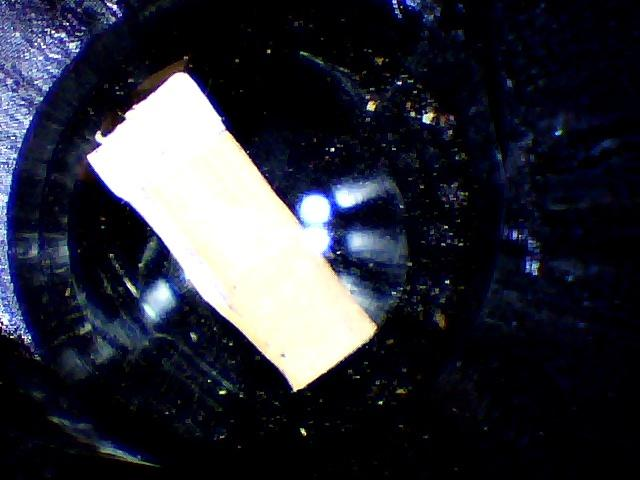megot: (44, 69, 381, 396)
